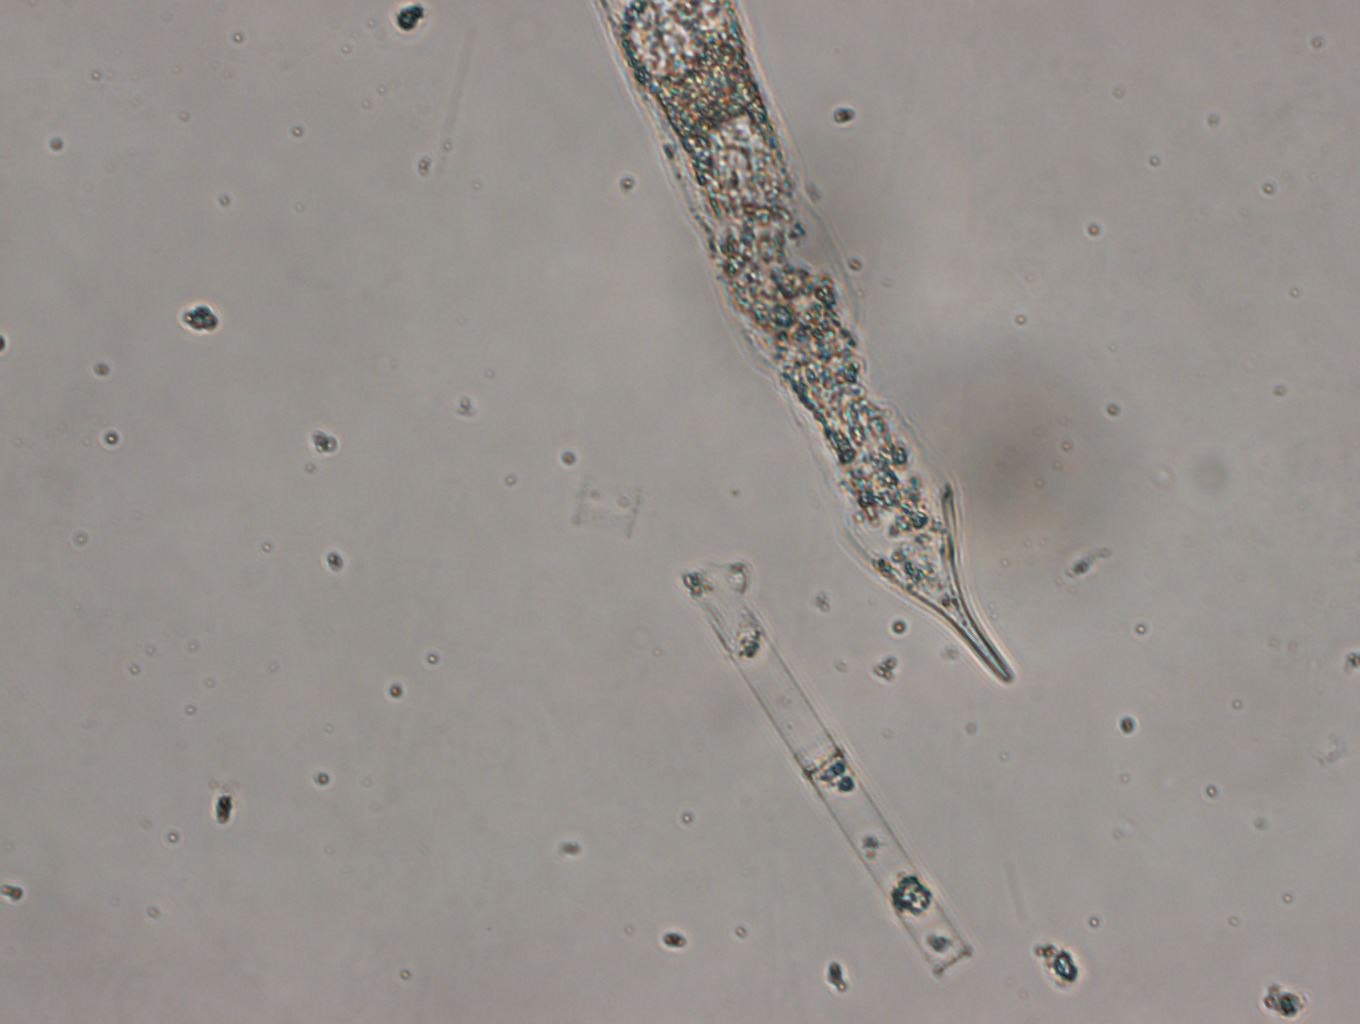rhizosolenia: (590, 1, 1016, 689)
skeletonema: (690, 564, 972, 977)
